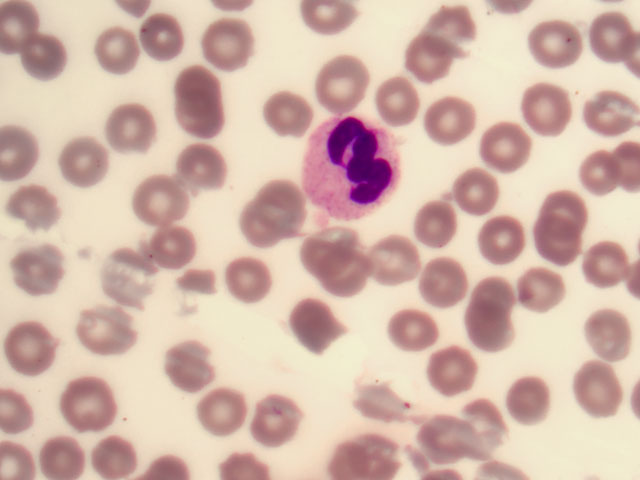RBC: (23, 34, 72, 84), (95, 23, 144, 73), (127, 9, 176, 59), (166, 63, 215, 113), (178, 93, 227, 143), (110, 102, 159, 152), (61, 138, 110, 188), (21, 182, 70, 232), (1, 129, 50, 179), (18, 239, 67, 289), (4, 324, 53, 374), (83, 309, 132, 359), (106, 259, 155, 309), (140, 225, 189, 275), (147, 173, 196, 223), (176, 142, 225, 192), (267, 87, 316, 137), (325, 53, 374, 103), (209, 24, 258, 74), (378, 73, 427, 123), (411, 35, 460, 85), (434, 3, 483, 53), (436, 96, 485, 146), (488, 127, 537, 177), (524, 80, 573, 130), (537, 29, 586, 79), (591, 11, 640, 61), (591, 100, 640, 150), (591, 140, 640, 190), (548, 182, 597, 232), (522, 213, 571, 263), (488, 217, 537, 267), (461, 164, 510, 214), (414, 198, 463, 248), (421, 245, 470, 295), (370, 239, 419, 289), (326, 248, 375, 298), (302, 221, 351, 271), (242, 194, 291, 244), (257, 174, 306, 224), (229, 239, 278, 289), (291, 291, 340, 341), (153, 345, 202, 395), (173, 266, 222, 316), (200, 388, 249, 438), (253, 395, 302, 445), (64, 379, 113, 429), (42, 427, 91, 477), (5, 430, 54, 480), (80, 430, 129, 480), (331, 430, 380, 480), (427, 415, 476, 465), (464, 400, 513, 450), (427, 347, 476, 397), (397, 300, 446, 350), (458, 304, 507, 354), (477, 268, 526, 318), (519, 260, 568, 310), (581, 233, 630, 283), (582, 303, 631, 353), (575, 364, 624, 414), (513, 374, 562, 424), (313, 1, 362, 50), (1, 4, 49, 54)
WBC: (304, 120, 401, 223)
